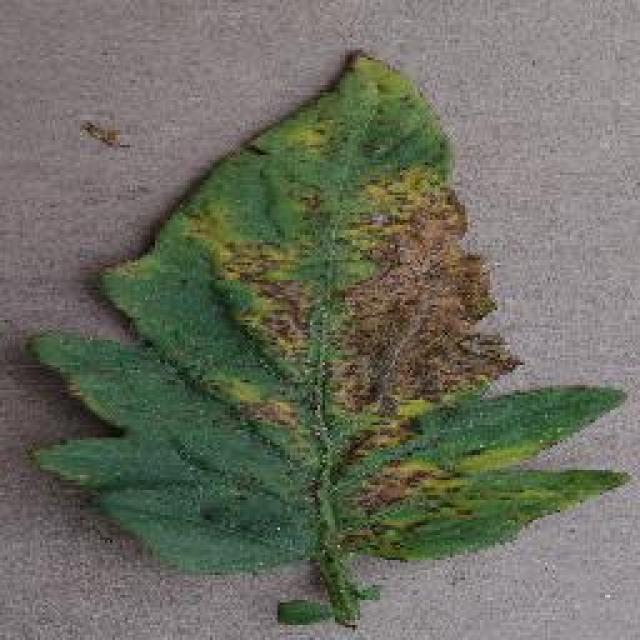Tomato bacterial spot leaf: (24, 44, 634, 578)
